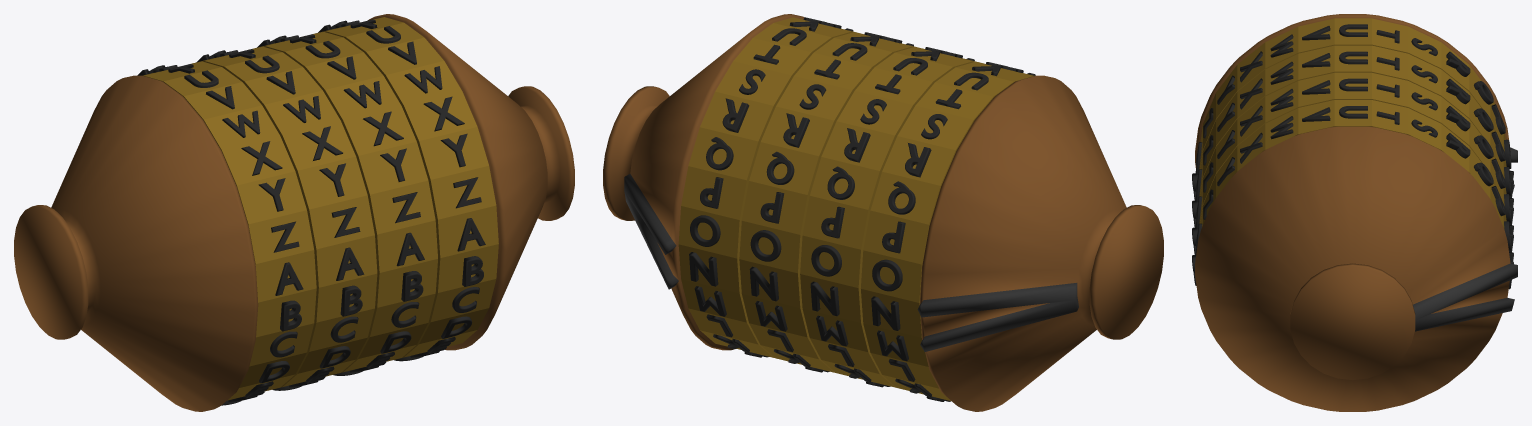
File: HVNTPUZZLE.fbx
The picture shows the model from 3 angles, left to right: view 1: azimuth 30°, elevation 25°; view 2: azimuth 150°, elevation 25°; view 3: azimuth 270°, elevation 25°; orthographic projection. The views are drawn at different scales.
Parts seen in each view (by area): view 1: HandleR, Row 2, Row 4, Row 3, Row 1, HandleL; view 2: HandleR, Row 3, Row 4, Row 2, Row 1, HandleL; view 3: HandleL, Row 3, Row 1, Row 2, Row 4, HandleR.
Boxes of the visible parts, left/top/right/bottom form: HandleR: left=14, top=75, right=258, bottom=411; Row 2: left=192, top=46, right=377, bottom=390; Row 4: left=312, top=17, right=498, bottom=361; Row 3: left=252, top=32, right=437, bottom=375; Row 1: left=137, top=61, right=316, bottom=405; HandleL: left=368, top=14, right=574, bottom=350; HandleR: left=917, top=75, right=1163, bottom=411; Row 3: left=739, top=32, right=924, bottom=372; Row 4: left=678, top=17, right=863, bottom=358; Row 2: left=800, top=47, right=984, bottom=387; Row 1: left=861, top=62, right=1035, bottom=401; HandleL: left=603, top=14, right=804, bottom=350; HandleL: left=1195, top=126, right=1517, bottom=411; Row 3: left=1192, top=72, right=1513, bottom=254; Row 1: left=1192, top=18, right=1513, bottom=200; Row 2: left=1192, top=45, right=1513, bottom=227; Row 4: left=1192, top=100, right=1513, bottom=289; HandleR: left=1195, top=14, right=1517, bottom=192.
Size of the model in its own units: 337 by 204 by 210.
